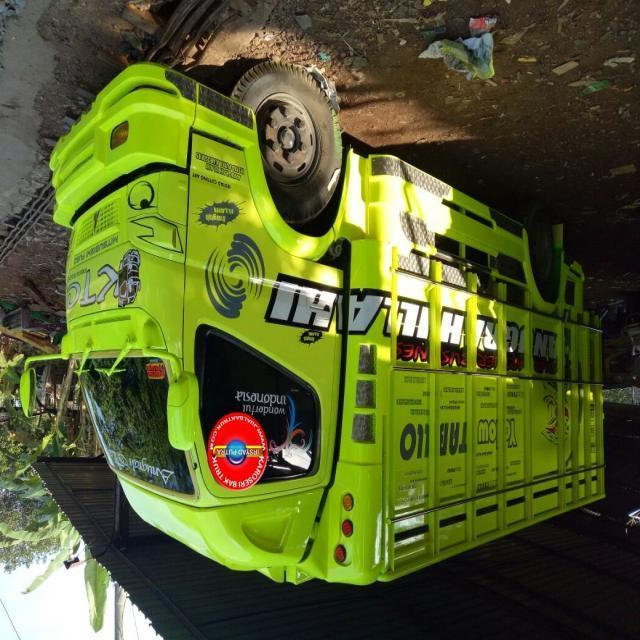truck: (21, 54, 609, 603)
